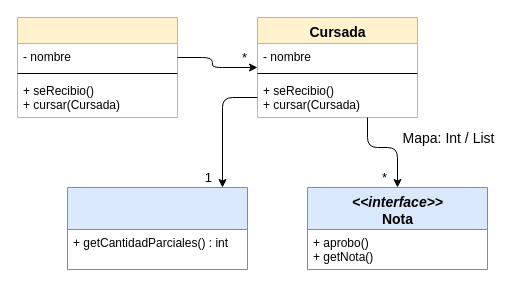
Image size: 511x290. Some labels were removed from this diagram. Each missing label, with the box of its shape:
<<interface>> Curso: (66, 186, 248, 270)
Alumno: (16, 16, 178, 118)
